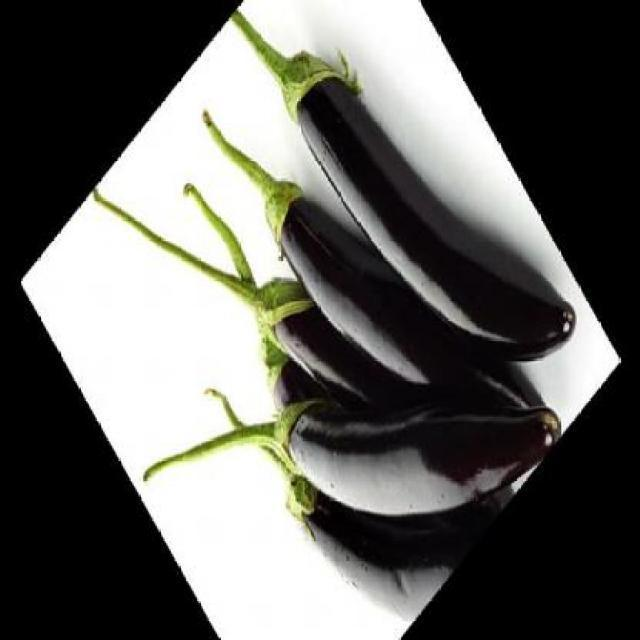eggplant: (139, 138, 567, 640), (198, 0, 538, 548), (206, 0, 583, 488), (200, 183, 529, 639)
